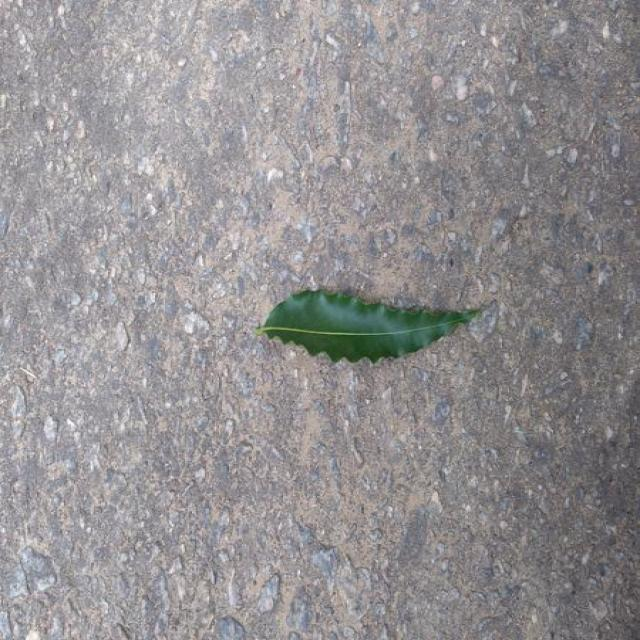ashoka: (257, 290, 478, 362)
